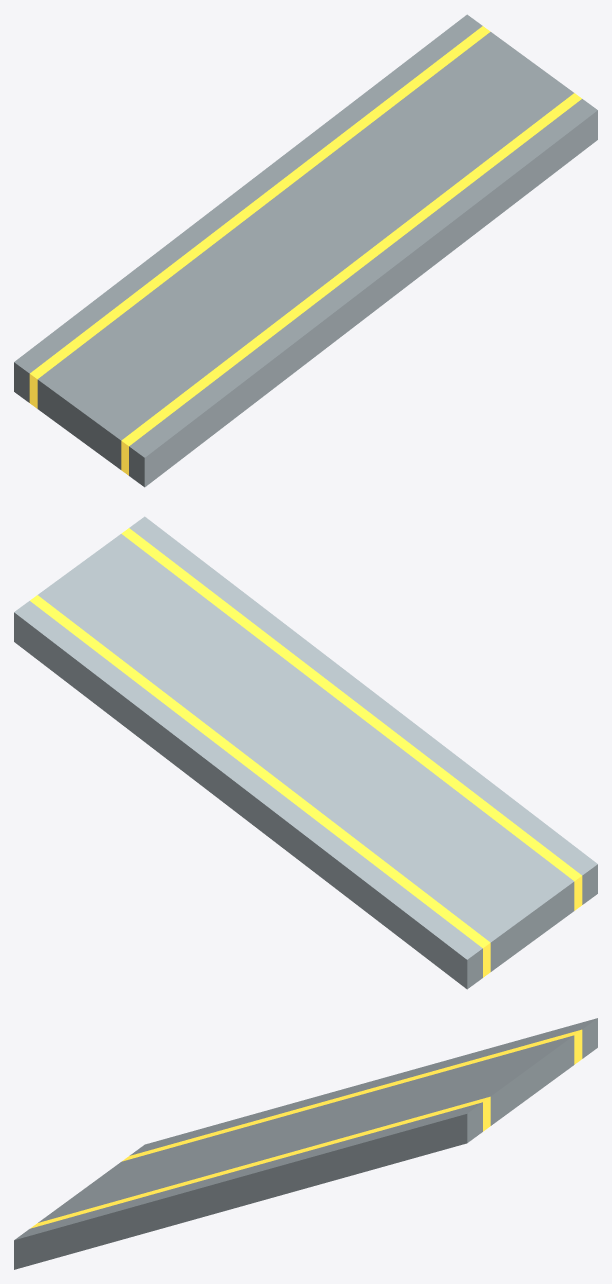
File: SM_Platform22Degree_v0.fbx
3 views of the same model, one above another, from view 1: azimuth 30°, elevation 25°; view 2: azimuth 150°, elevation 25°; view 3: azimuth 330°, elevation 25° (orthographic).
Parts seen in each view (by area): view 1: SM_Platform22Degree_v0; view 2: SM_Platform22Degree_v0; view 3: SM_Platform22Degree_v0.
Boxes of the visible parts, x1=… form: SM_Platform22Degree_v0: x1=14, y1=14, x2=597, y2=487; SM_Platform22Degree_v0: x1=14, y1=516, x2=597, y2=989; SM_Platform22Degree_v0: x1=14, y1=1018, x2=597, y2=1269.
Bounding box in the file's own units: 2 × 1.12 × 1.
